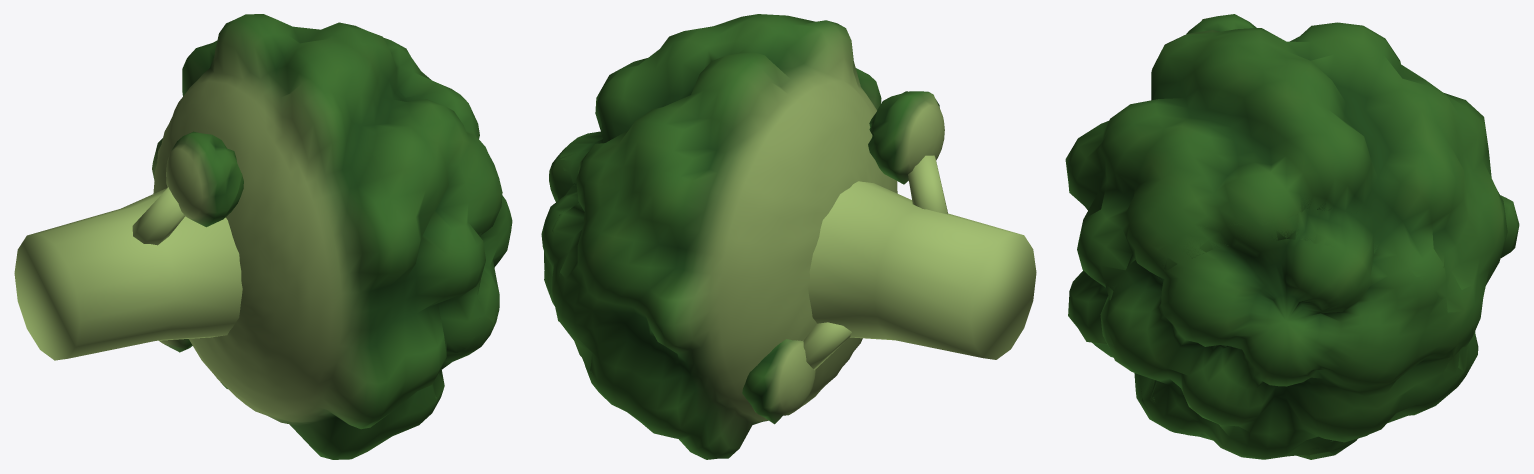
The model's file is broccoli_held.glb.
The picture shows the model from 3 angles, left to right: view 1: azimuth 30°, elevation 25°; view 2: azimuth 150°, elevation 25°; view 3: azimuth 270°, elevation 25°; orthographic projection. The views are drawn at different scales.
Visible parts, largest first — view 1: eat_0_Body, eat_0_Stalk, eat_1_Body, eat_0_Bud1, eat_0_Shoot1, eat_2_Body; view 2: eat_0_Body, eat_0_Stalk, eat_1_Body, eat_0_Bud1, eat_0_Bud0, eat_0_Shoot1, eat_2_Body, eat_0_Shoot0; view 3: eat_0_Body, eat_1_Body, eat_2_Body, eat_0_Bud1.
Part boxes in pixels (box(x1,y1,x2,y2)): eat_0_Body: box(152, 14, 512, 459); eat_0_Stalk: box(14, 188, 242, 360); eat_1_Body: box(157, 20, 502, 459); eat_0_Bud1: box(166, 131, 243, 227); eat_0_Shoot1: box(132, 187, 185, 245); eat_2_Body: box(154, 127, 500, 410); eat_0_Body: box(541, 14, 897, 459); eat_0_Stalk: box(808, 181, 1036, 359); eat_1_Body: box(542, 14, 897, 459); eat_0_Bud1: box(868, 91, 944, 184); eat_0_Bud0: box(742, 339, 815, 424); eat_0_Shoot1: box(908, 155, 947, 214); eat_2_Body: box(552, 41, 778, 403); eat_0_Shoot0: box(803, 322, 851, 370); eat_0_Body: box(1065, 22, 1519, 459); eat_1_Body: box(1066, 26, 1516, 453); eat_2_Body: box(1084, 42, 1495, 459); eat_0_Bud1: box(1186, 14, 1256, 33).
Size of the model in its own units: 0.1097 by 0.0975 by 0.0979.
